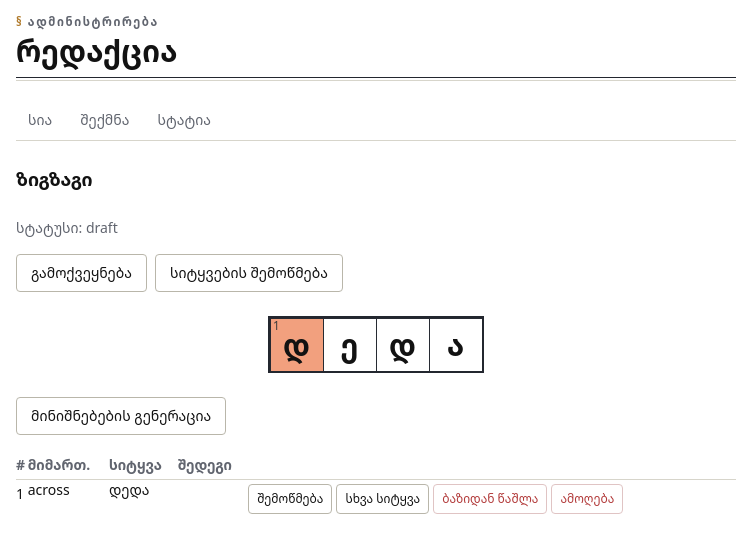
DETAIL / PuzzleDetail › checks a single entry word via AI
Click the button "შემოწმება" at (290, 499), box [248,484,332,514]
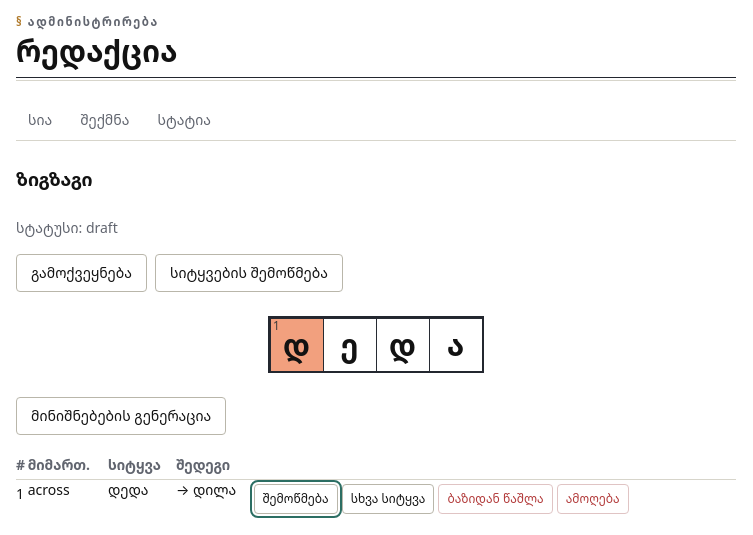
Check: the text "→ დილა" is shown, box [176,479,254,518]
